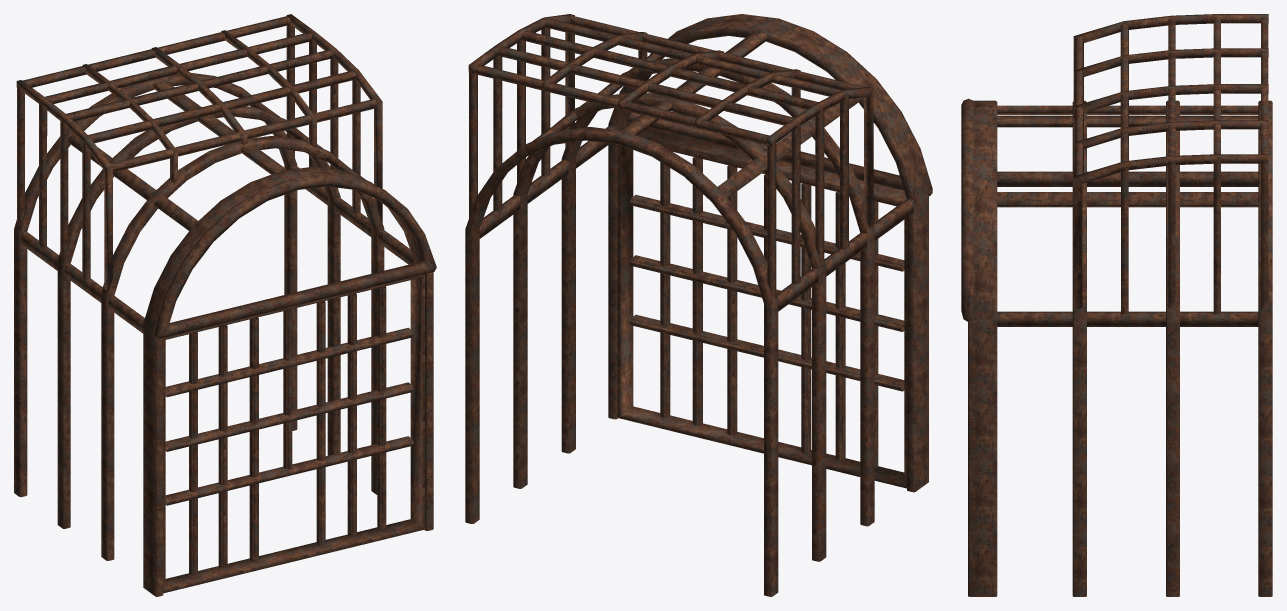
The model's file is Greenhouse_Door01.FBX.
The picture shows the model from 3 angles, left to right: view 1: azimuth 30°, elevation 25°; view 2: azimuth 150°, elevation 25°; view 3: azimuth 270°, elevation 25°; orthographic projection. The views are drawn at different scales.
Visible parts, largest first — view 1: Greenhouse_Door01; view 2: Greenhouse_Door01; view 3: Greenhouse_Door01.
Boxes of the visible parts, x1,y1,x2,y2 form: Greenhouse_Door01: [14, 14, 436, 596]; Greenhouse_Door01: [465, 14, 932, 596]; Greenhouse_Door01: [961, 14, 1272, 596].
Bounding box in the file's own units: 1892 × 2635 × 1692.
